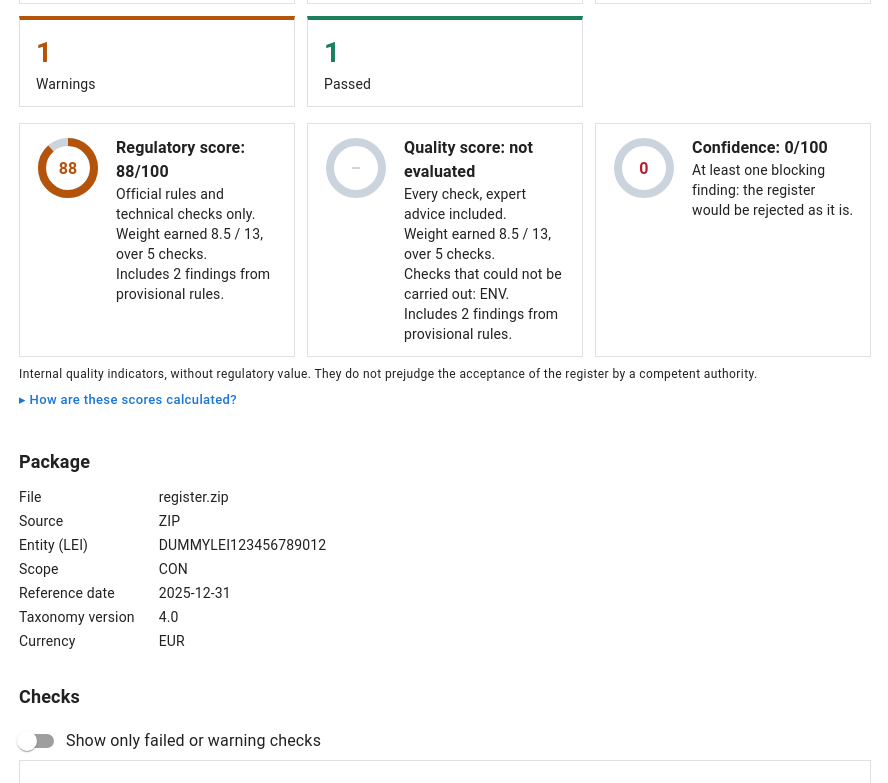
Test: Check report › shows the counts, the three scores and how they are calculated (CL-22)
The width and height of the screenshot is (888, 783).
Earlier steps of the test are not shown.
(page scrolled)
Expected: the text "Regulatory score: 88/100" is shown, x1=116 y1=138 x2=245 y2=181
Expected: the text "Quality score: not evaluated" is shown, x1=404 y1=138 x2=533 y2=181
Click the button "▸ How are these scores calculated?" at (128, 400), box x1=19 y1=385 x2=237 y2=416
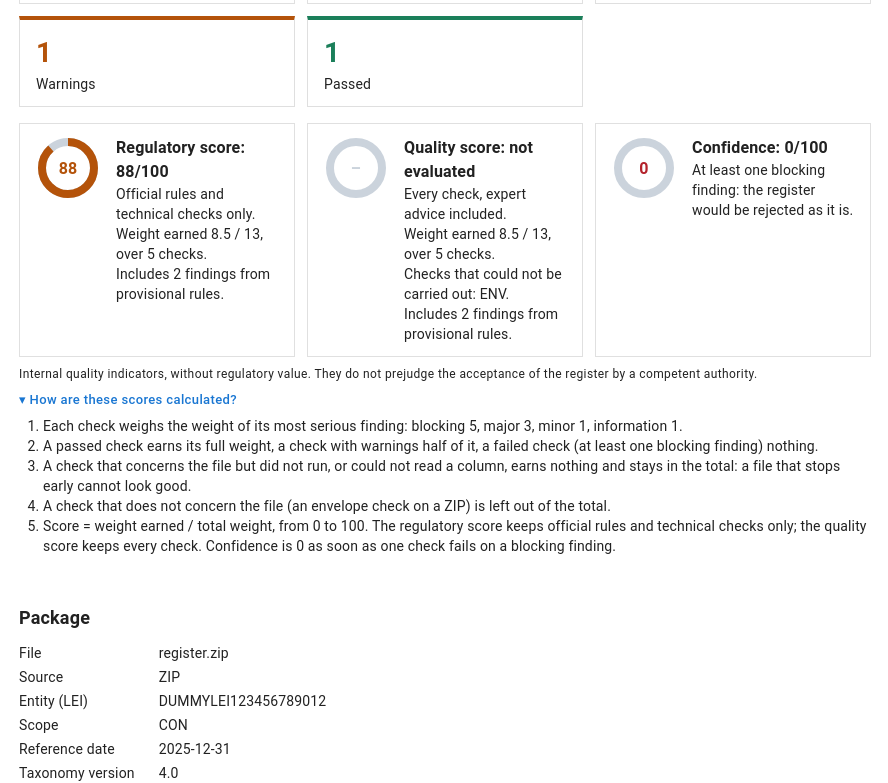
Expected: the list item "Each check weighs" is shown, x1=43 y1=418 x2=683 y2=434
